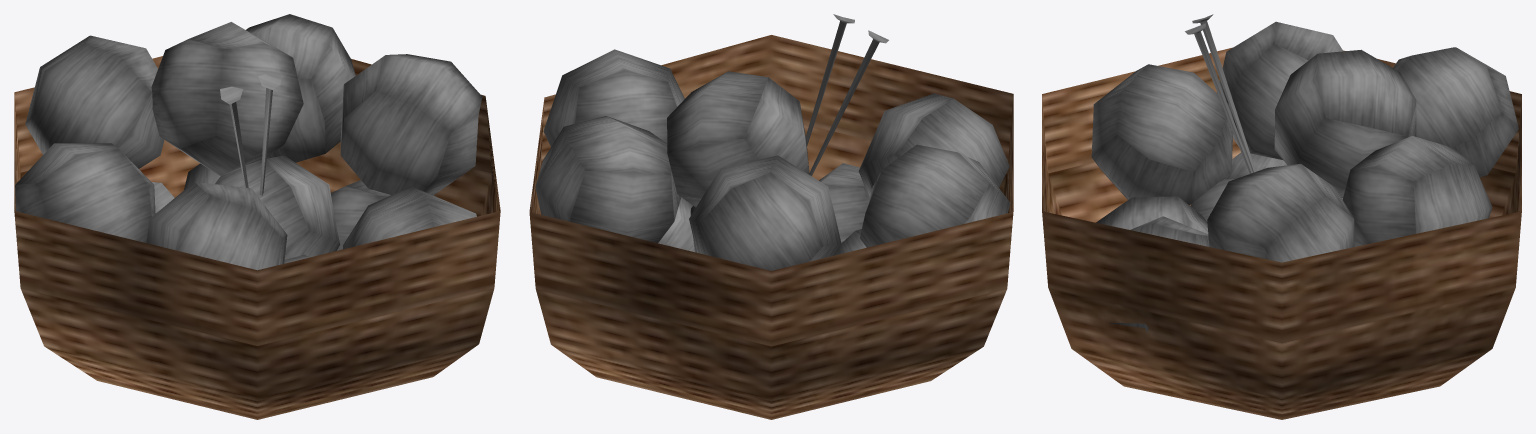
File: shop_tailor_yarnBasket.fbx
3 views of the same model, side by side, from view 1: azimuth 30°, elevation 25°; view 2: azimuth 150°, elevation 25°; view 3: azimuth 270°, elevation 25° (orthographic).
Visible parts, largest first — view 1: yarnBasket_basket, yarnBasket_ball9, yarnBasket_ball13, yarnBasket_ball11, yarnBasket_ball7, yarnBasket_ball6, yarnBasket_ball12, yarnBasket_ball5, yarnBasket_ball10, yarnBasket_ball4, yarnBasket_needle2, yarnBasket_needle1 (+1 smaller); view 2: yarnBasket_basket, yarnBasket_ball12, yarnBasket_ball11, yarnBasket_ball13, yarnBasket_ball7, yarnBasket_ball9, yarnBasket_ball6, yarnBasket_ball3, yarnBasket_needle1, yarnBasket_ball4, yarnBasket_needle2; view 3: yarnBasket_basket, yarnBasket_ball6, yarnBasket_ball13, yarnBasket_ball12, yarnBasket_ball9, yarnBasket_ball11, yarnBasket_ball7, yarnBasket_ball3, yarnBasket_ball2, yarnBasket_ball10, yarnBasket_needle2, yarnBasket_needle1.
Boxes of the visible parts, x1,y1,x2,y2 form: yarnBasket_basket: (14,56,500,419); yarnBasket_ball9: (340,54,482,195); yarnBasket_ball13: (151,22,303,176); yarnBasket_ball11: (25,35,164,168); yarnBasket_ball7: (15,143,155,242); yarnBasket_ball6: (146,182,287,270); yarnBasket_ball12: (246,14,355,162); yarnBasket_ball5: (215,155,339,259); yarnBasket_ball10: (343,186,476,249); yarnBasket_ball4: (330,180,434,250); yarnBasket_needle2: (258,73,281,195); yarnBasket_needle1: (220,86,248,187); yarnBasket_basket: (529,35,1013,419); yarnBasket_ball12: (535,116,681,243); yarnBasket_ball11: (689,155,841,270); yarnBasket_ball13: (667,71,809,207); yarnBasket_ball7: (860,144,1010,247); yarnBasket_ball9: (543,49,684,146); yarnBasket_ball6: (858,93,1009,198); yarnBasket_ball3: (819,163,869,242); yarnBasket_needle1: (809,30,888,176); yarnBasket_ball4: (659,197,694,251); yarnBasket_needle2: (806,14,854,145); yarnBasket_basket: (1042,47,1521,419); yarnBasket_ball6: (1091,64,1233,205); yarnBasket_ball13: (1274,49,1416,198); yarnBasket_ball12: (1342,136,1492,246); yarnBasket_ball9: (1207,164,1354,262); yarnBasket_ball11: (1393,47,1518,177); yarnBasket_ball7: (1217,21,1342,159); yarnBasket_ball3: (1096,196,1208,233); yarnBasket_ball2: (1190,152,1287,221); yarnBasket_ball10: (1109,216,1209,332); yarnBasket_needle2: (1185,23,1252,173); yarnBasket_needle1: (1192,14,1255,172).
Size of the model in its own units: 238 by 145 by 210.
Materials: 1 (1 with a texture image).
